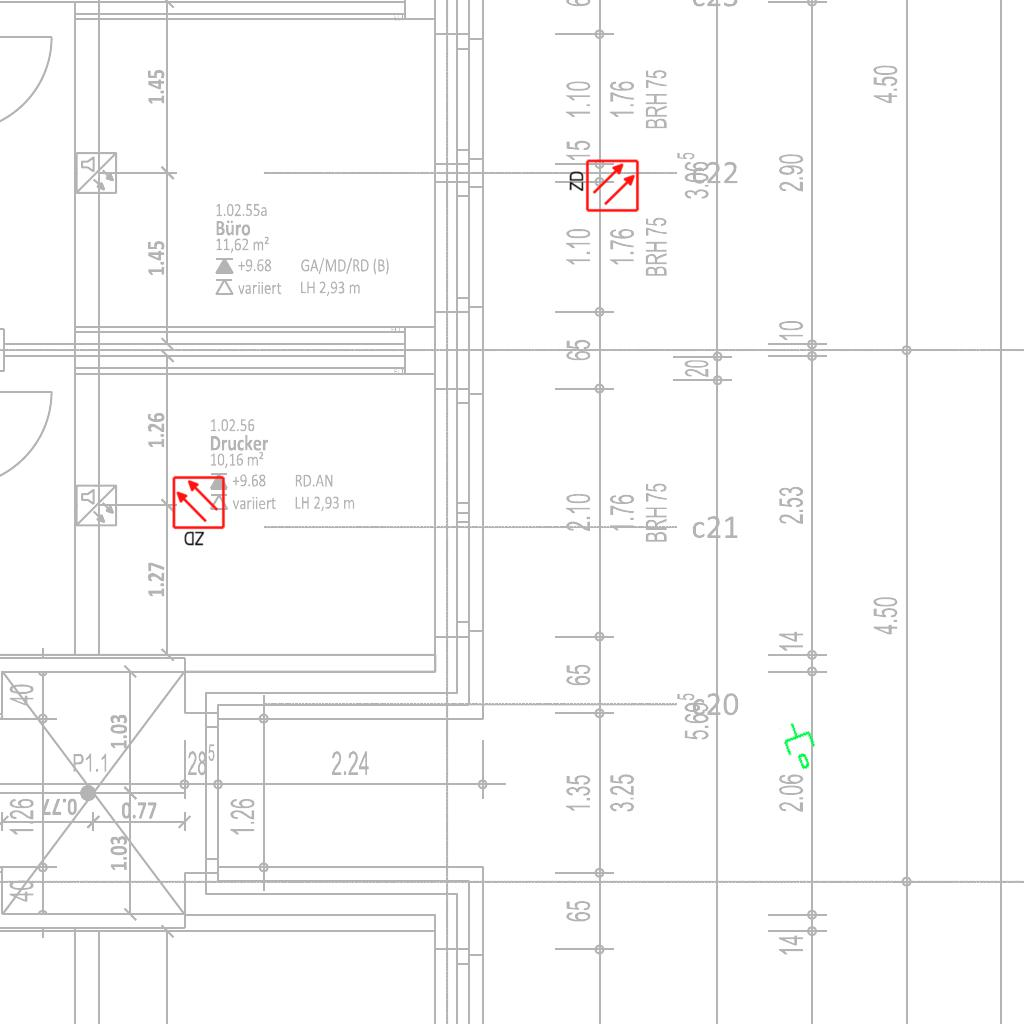Datenanschluss_einfach: (776, 715, 826, 775)
ZD_Melder_in_Zwischendecke_mit_Revisionsoeffnung_mind_40_x_40_cm: (566, 158, 640, 215), (171, 475, 228, 549)
